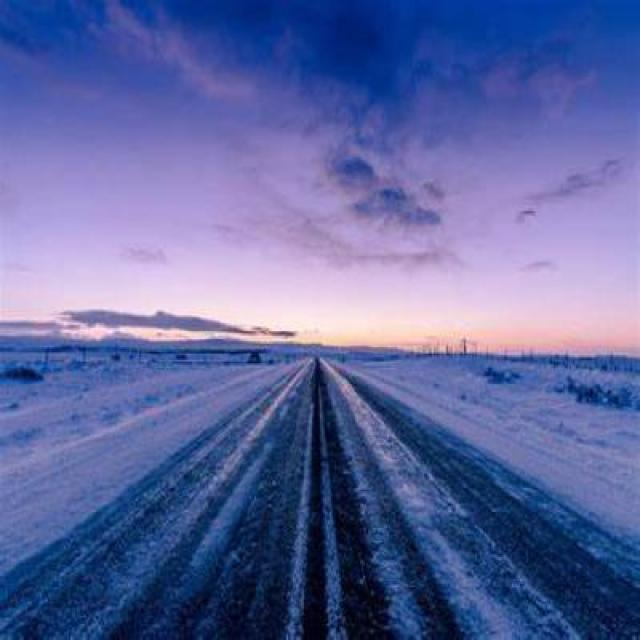ice-road: (0, 360, 640, 640)
